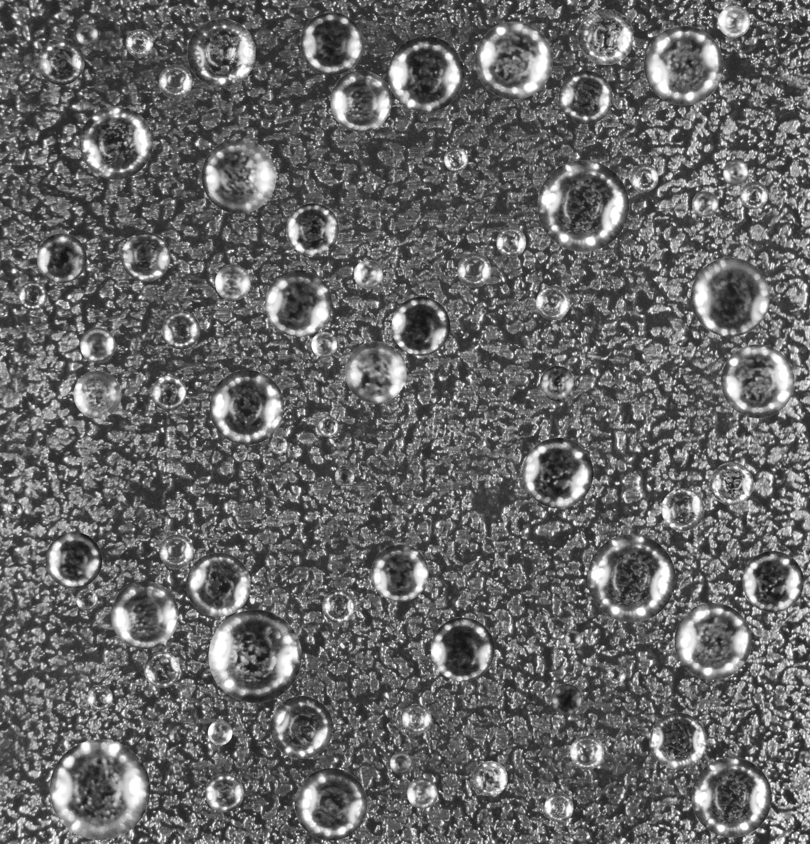Bubble: (49, 739, 150, 840), (208, 609, 301, 702), (537, 160, 629, 251), (587, 534, 675, 622), (691, 757, 771, 837), (644, 25, 723, 105), (690, 257, 769, 336), (475, 21, 552, 99), (674, 602, 751, 679), (388, 36, 464, 112), (201, 138, 276, 213), (209, 370, 284, 444), (721, 344, 794, 418), (79, 106, 152, 179), (294, 768, 367, 840), (523, 437, 593, 508), (187, 18, 255, 87), (110, 581, 178, 649), (265, 270, 331, 336), (430, 617, 494, 681), (186, 552, 250, 616), (300, 12, 363, 75), (270, 696, 333, 758), (345, 341, 406, 403), (330, 70, 391, 131), (742, 551, 803, 612), (391, 296, 450, 355), (371, 544, 428, 601), (45, 532, 102, 588), (650, 712, 706, 769), (578, 9, 633, 64), (558, 70, 612, 124), (286, 203, 338, 255), (36, 233, 86, 283), (121, 232, 170, 281), (73, 370, 121, 418), (37, 38, 84, 85), (661, 488, 704, 531), (710, 462, 753, 505), (205, 773, 243, 812), (162, 311, 200, 349), (80, 327, 115, 363), (215, 264, 250, 300), (472, 761, 507, 796), (151, 375, 186, 410), (540, 366, 575, 401), (144, 652, 179, 687), (159, 534, 193, 568), (570, 735, 604, 769), (536, 285, 570, 319), (158, 64, 192, 98), (457, 253, 491, 287), (322, 590, 355, 623), (718, 5, 750, 37), (551, 684, 582, 714), (496, 227, 526, 257), (407, 778, 437, 808), (402, 704, 431, 734), (353, 259, 382, 288), (544, 793, 573, 822), (18, 281, 47, 310), (630, 163, 658, 192), (125, 29, 153, 57), (740, 181, 767, 209), (692, 191, 718, 217), (311, 331, 337, 357), (87, 685, 112, 710), (207, 720, 232, 745), (723, 160, 748, 185), (444, 147, 468, 171), (390, 752, 412, 774), (75, 588, 97, 610), (76, 23, 97, 45), (317, 416, 338, 436), (334, 466, 354, 486), (608, 665, 626, 683), (564, 630, 581, 647), (270, 436, 287, 453), (7, 501, 22, 517), (657, 639, 669, 652)
